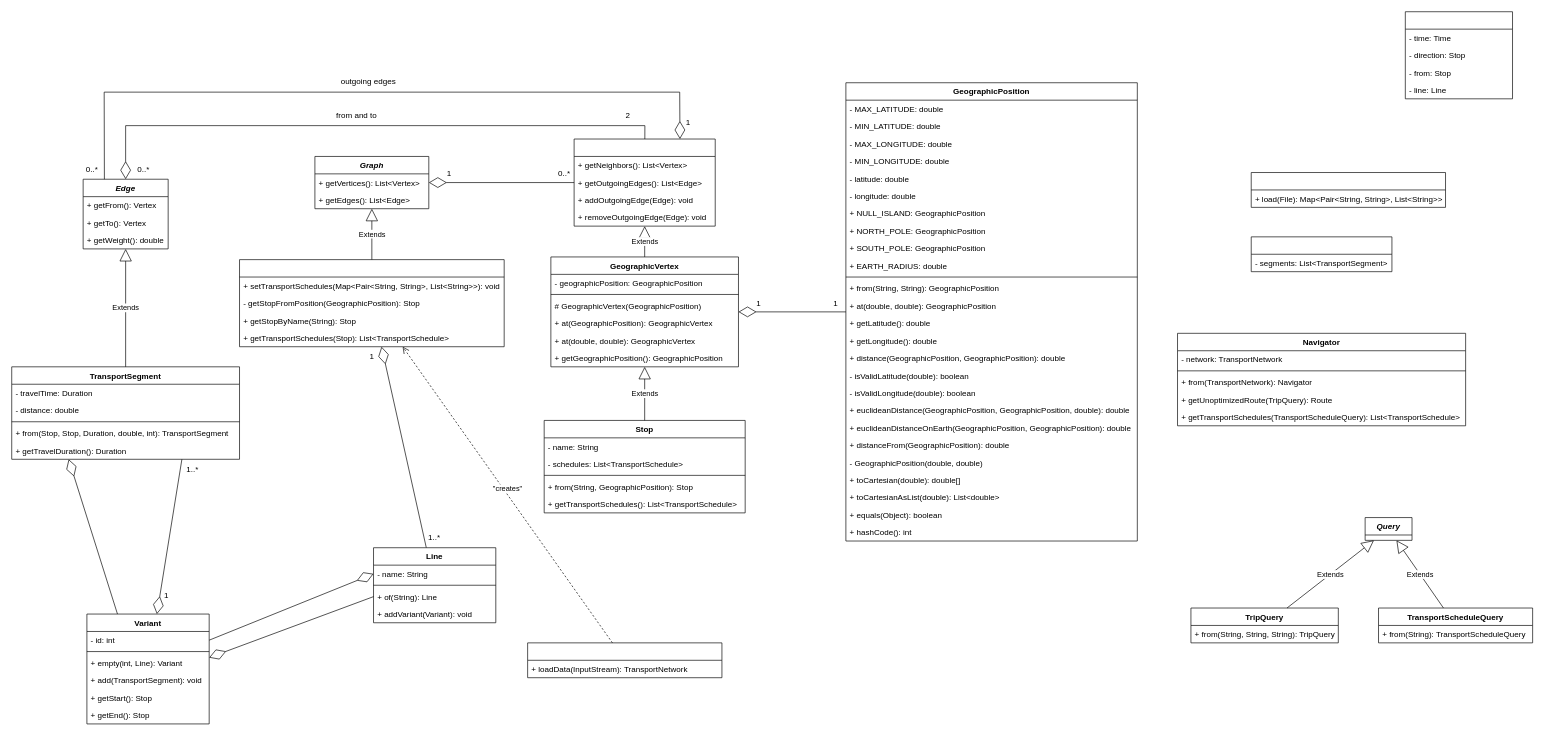
Image size: 1544x738. Some labels were removed from this diagram. The box of each missing label's shape, as (x1, y1, x2, y2) in pixels:
Route: (1251, 236, 1392, 272)
TransportNetwork: (239, 259, 504, 347)
TransportNetworkParser: (527, 642, 722, 678)
TransportSchedule: (1405, 11, 1513, 99)
TransportScheduleParser: (1251, 172, 1446, 207)
Vertex: (573, 138, 715, 226)
